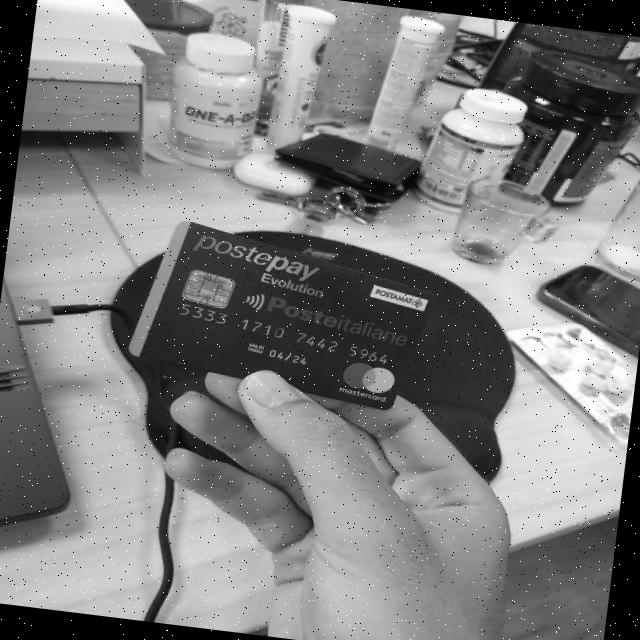card: (121, 213, 434, 417)
